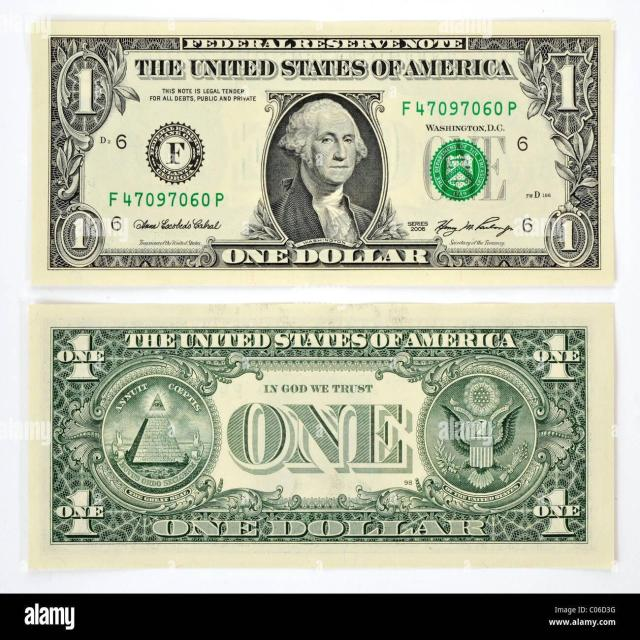1-Back: (30, 297, 615, 568)
1-Front: (31, 20, 616, 287)
